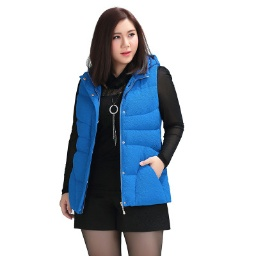face: (90, 8, 150, 71)
